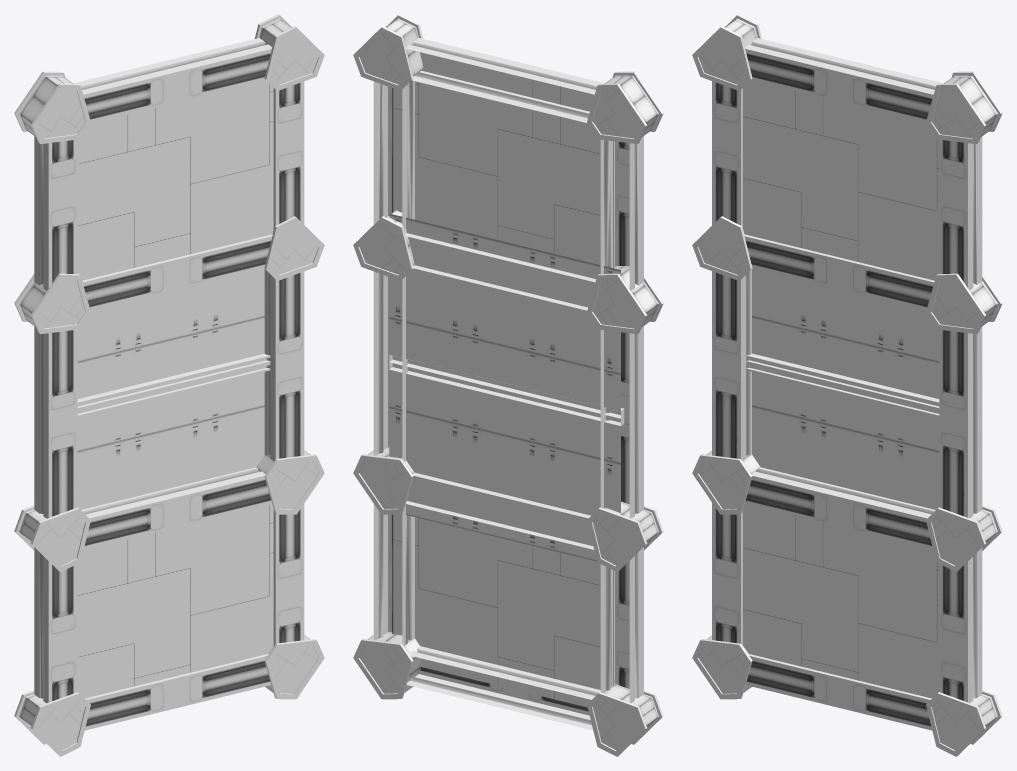
File: DoorVertical_VF.FBX
3 views of the same model, side by side, from view 1: azimuth 30°, elevation 25°; view 2: azimuth 150°, elevation 25°; view 3: azimuth 330°, elevation 25° (orthographic).
Parts seen in each view (by area): view 1: DoorOpen_Vertical, Door_Lower, Door_Upper; view 2: DoorOpen_Vertical, Door_Lower, Door_Upper; view 3: DoorOpen_Vertical, Door_Lower, Door_Upper.
Part boxes in pixels (x1,y1,x2,y2): DoorOpen_Vertical: (14,14,324,756); Door_Lower: (77,363,270,509); Door_Upper: (77,268,270,409); DoorOpen_Vertical: (353,14,663,756); Door_Lower: (389,359,624,561); Door_Upper: (389,213,624,418); DoorOpen_Vertical: (692,14,1002,756); Door_Lower: (746,363,939,509); Door_Upper: (746,268,939,409).
Size of the model in its own units: 81.95 by 180 by 8.85.
